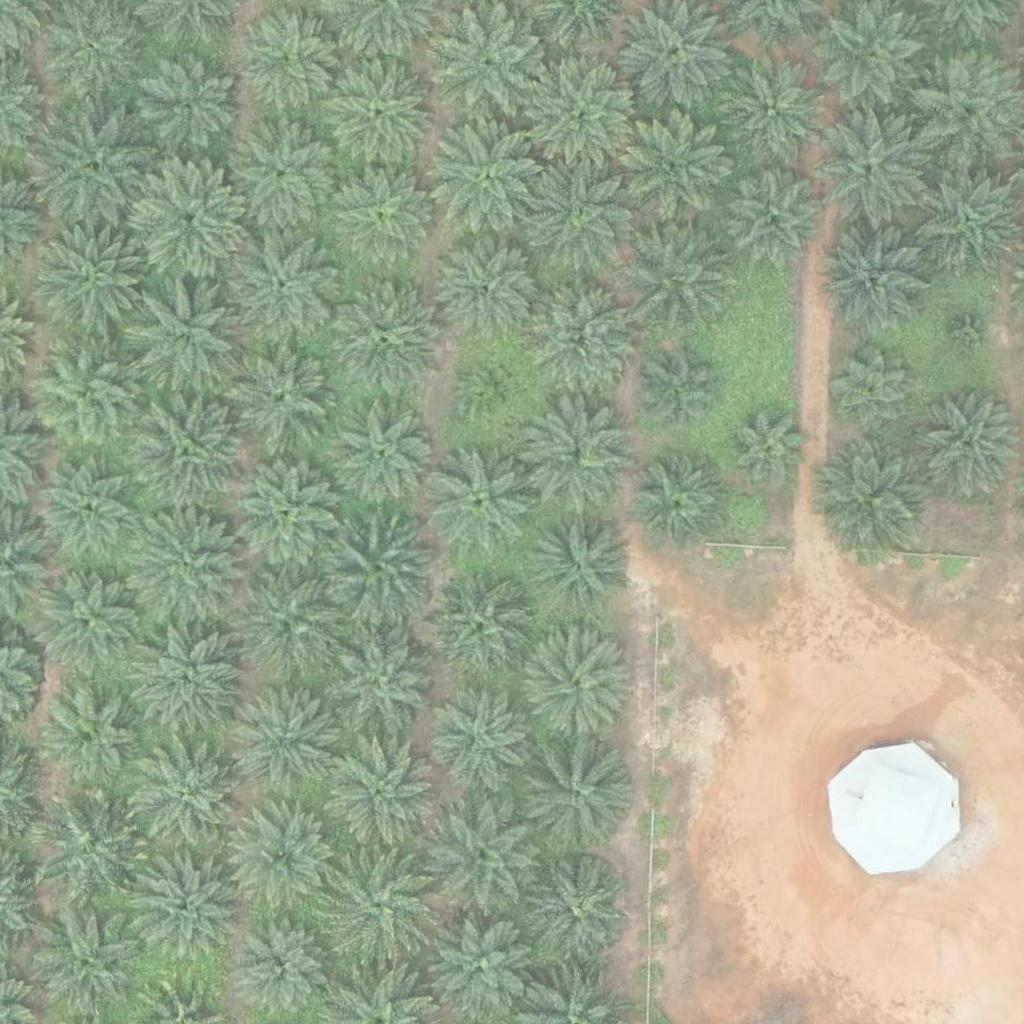Kelapa_Sawit: (526, 279, 639, 393), (432, 120, 545, 234), (27, 336, 140, 450), (132, 394, 245, 508), (132, 512, 245, 626), (231, 568, 344, 682), (232, 683, 345, 797), (816, 113, 929, 226), (819, 228, 932, 341), (714, 49, 827, 162), (530, 60, 643, 173), (524, 155, 637, 268), (435, 11, 548, 124), (134, 163, 247, 276), (131, 275, 244, 388), (40, 112, 153, 225), (33, 224, 146, 337), (128, 625, 241, 738), (135, 743, 248, 856), (228, 802, 341, 915), (424, 446, 537, 559), (421, 568, 534, 681), (520, 403, 633, 516), (524, 507, 637, 620), (524, 630, 637, 743), (519, 742, 632, 855), (819, 441, 932, 554), (328, 58, 440, 172), (233, 458, 345, 572), (325, 623, 437, 737), (324, 740, 436, 854), (427, 801, 539, 915), (908, 53, 1020, 166), (625, 109, 737, 222), (624, 216, 736, 329), (330, 284, 442, 397), (229, 121, 341, 234), (233, 231, 345, 344), (34, 562, 146, 675), (31, 792, 143, 905), (227, 340, 339, 453), (325, 516, 437, 629), (319, 849, 431, 962), (128, 846, 240, 959), (32, 905, 144, 1018), (726, 169, 826, 270), (43, 685, 143, 786), (335, 405, 435, 506), (440, 237, 540, 337), (333, 168, 433, 268), (239, 14, 339, 114), (142, 58, 242, 158), (38, 463, 138, 563), (430, 688, 530, 788), (529, 861, 629, 961), (635, 459, 723, 548), (831, 349, 918, 437), (240, 923, 327, 1011), (644, 359, 719, 435), (730, 410, 805, 485), (461, 362, 523, 425), (946, 307, 996, 358)
